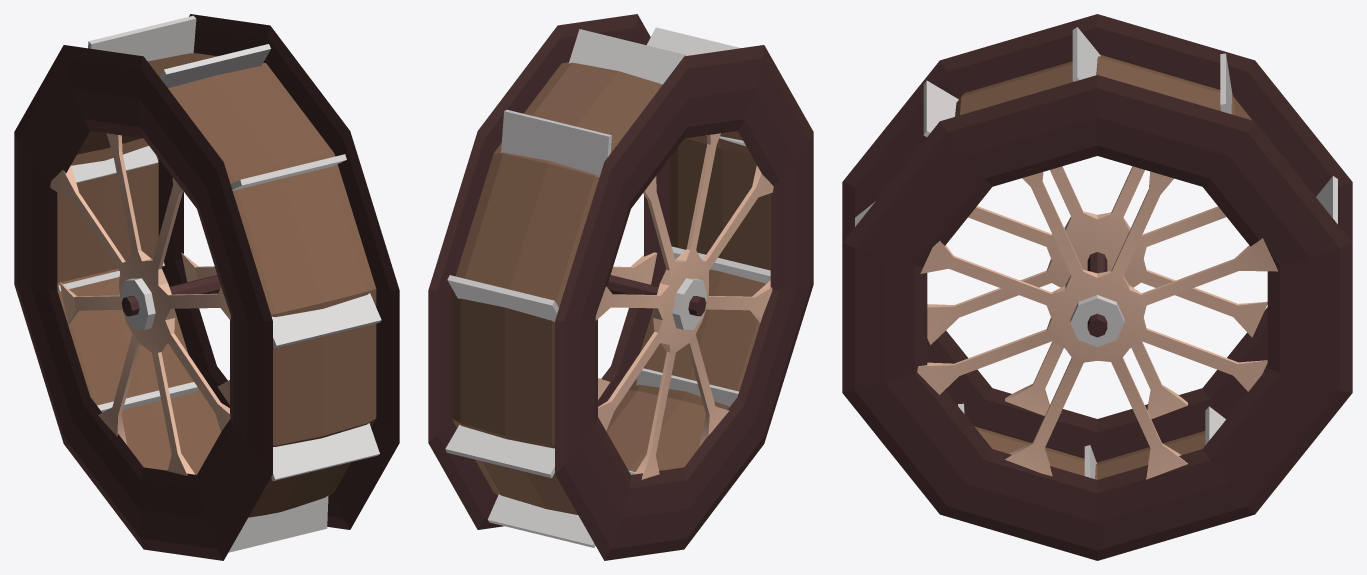
Rendered from water_mill.fbx.
3 renders of one model, left to right at view 1: azimuth 30°, elevation 25°; view 2: azimuth 150°, elevation 25°; view 3: azimuth 270°, elevation 25°, orthographic.
Visible parts, largest first — view 1: pTorus5; view 2: pTorus5; view 3: pTorus5.
Part boxes in pixels (x1,y1,x2,y2): pTorus5: [14, 14, 399, 560]; pTorus5: [428, 14, 813, 560]; pTorus5: [842, 14, 1352, 560].
Size of the model in its own units: 1.26 by 3.6 by 3.42.
